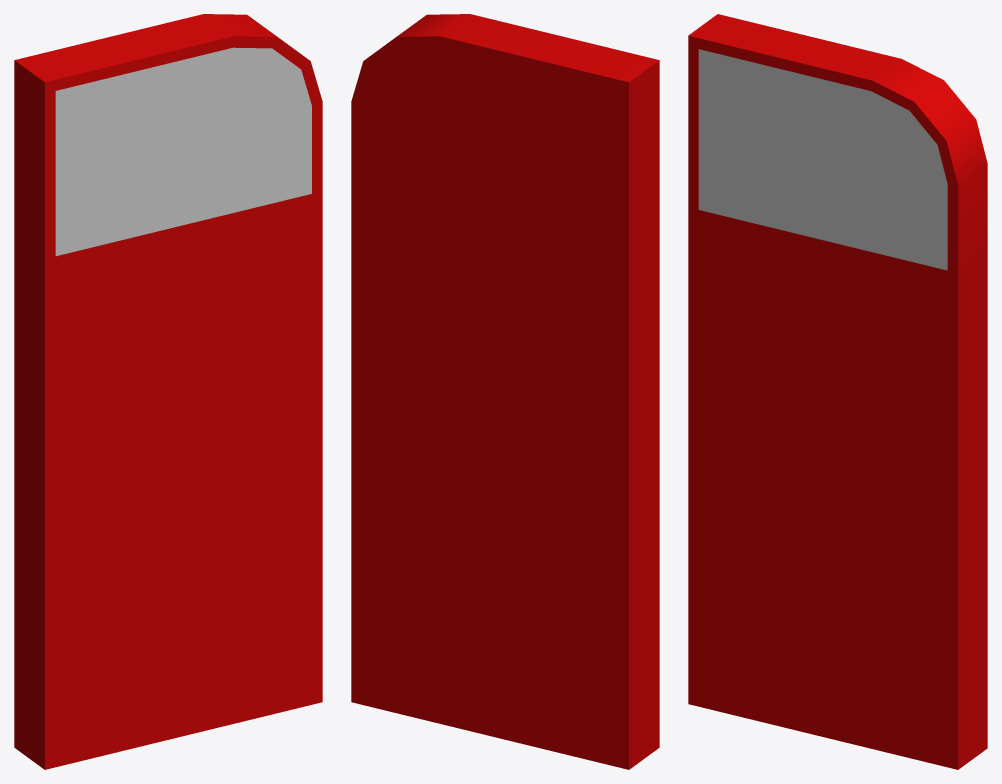
The model's file is BigSign.fbx.
The picture shows the model from 3 angles, left to right: view 1: azimuth 30°, elevation 25°; view 2: azimuth 150°, elevation 25°; view 3: azimuth 330°, elevation 25°; orthographic projection. The views are drawn at different scales.
Parts seen in each view (by area): view 1: BigSign; view 2: BigSign; view 3: BigSign.
Part boxes in pixels (box(x1,y1,x2,y2)): BigSign: box(14, 14, 322, 769); BigSign: box(351, 14, 659, 769); BigSign: box(688, 14, 987, 769).
Bounding box in the file's own units: 223 × 529 × 42.41.
